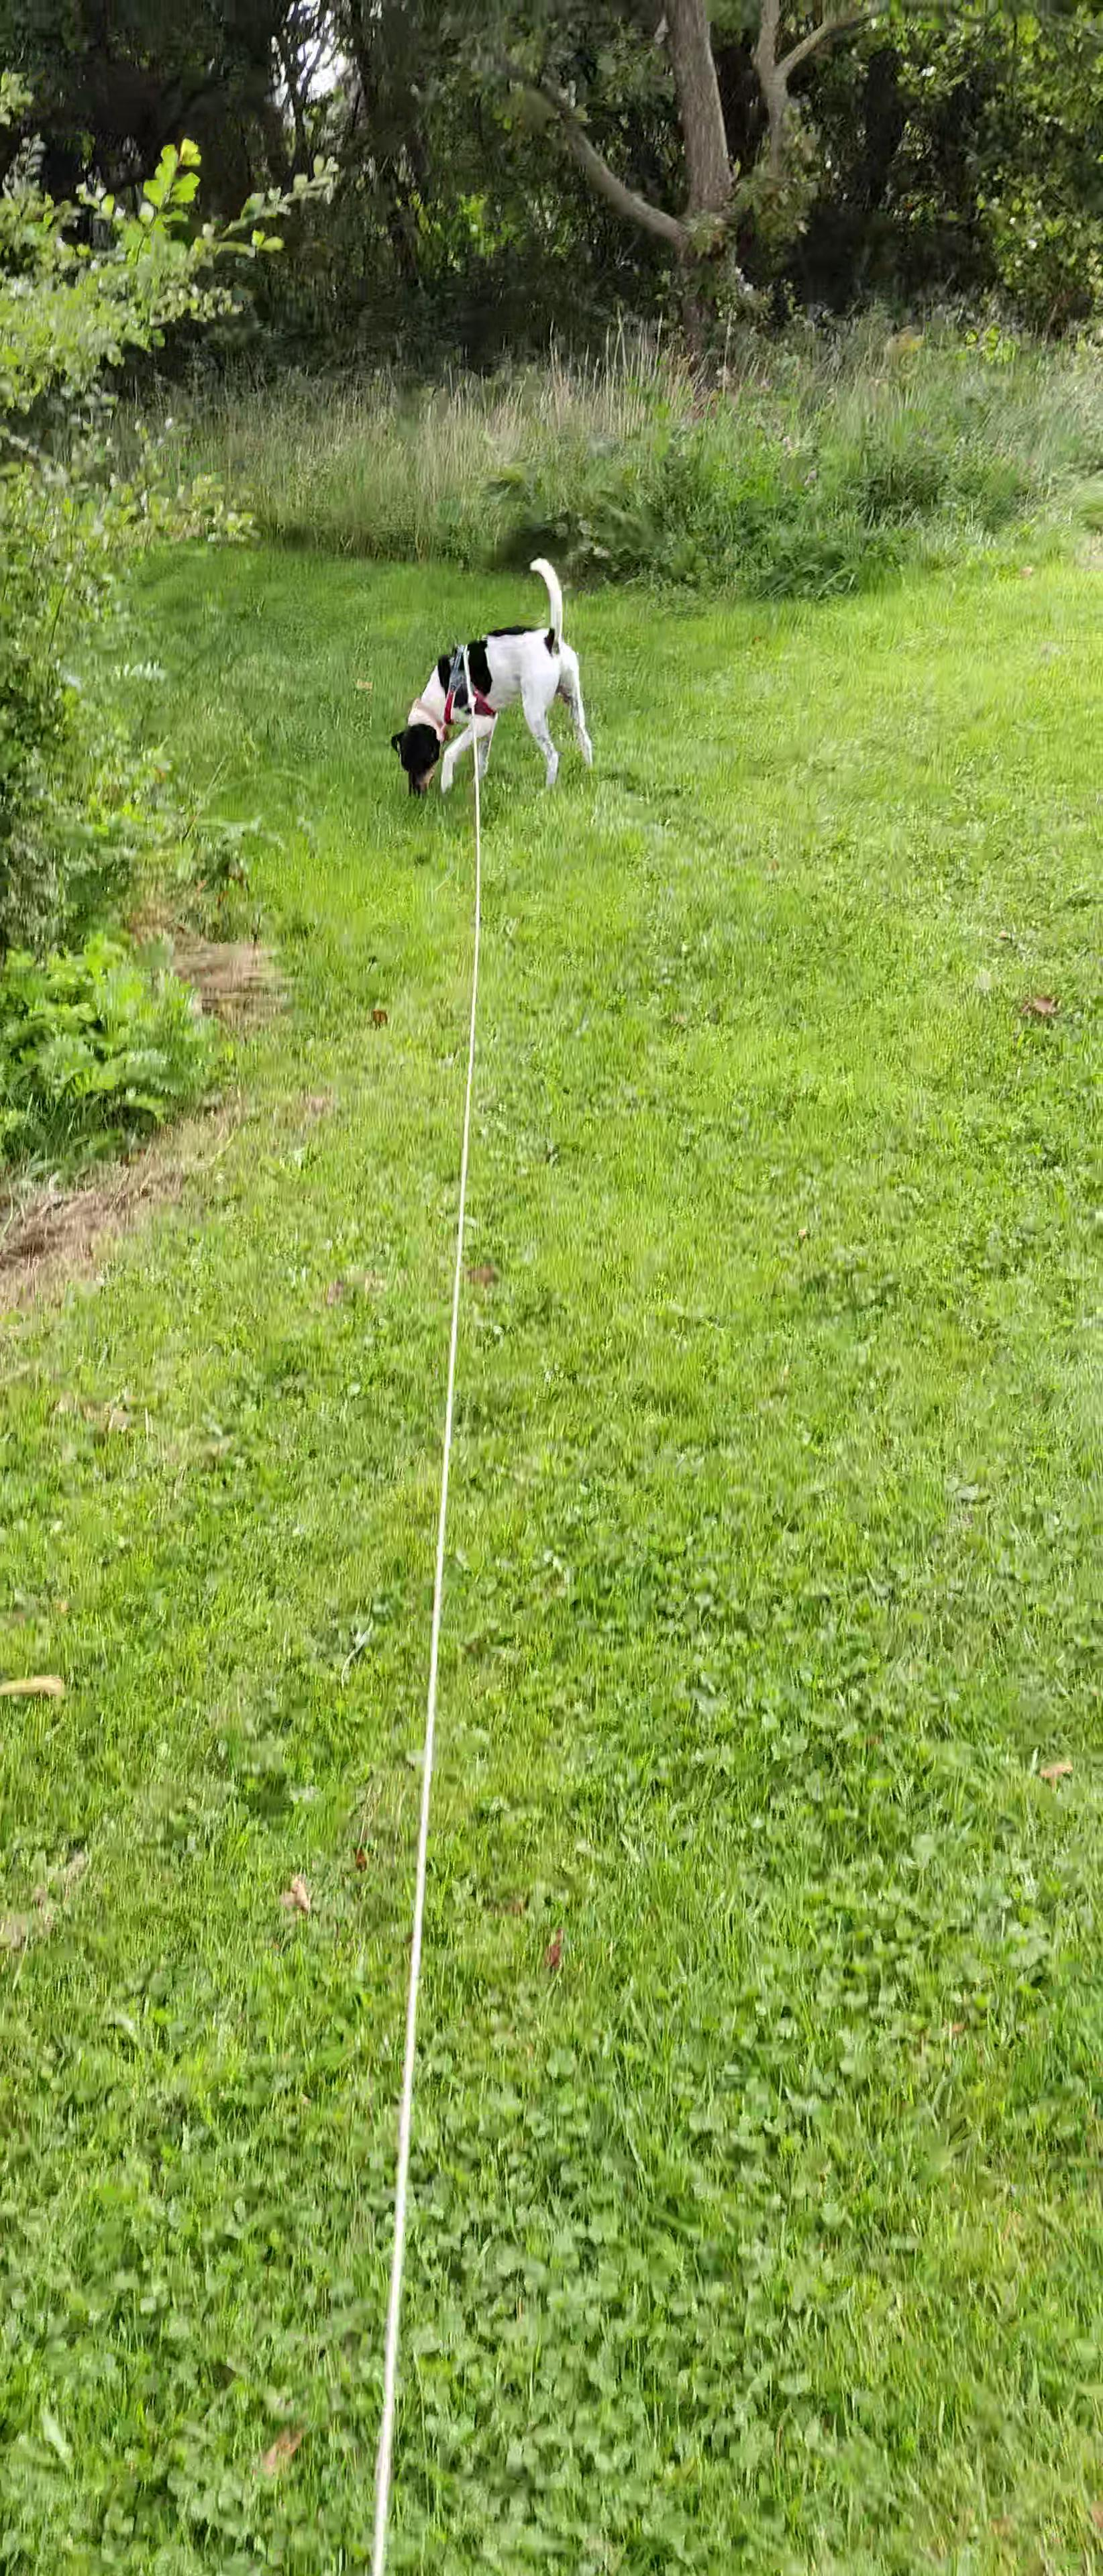Dog: (380, 552, 611, 808)
